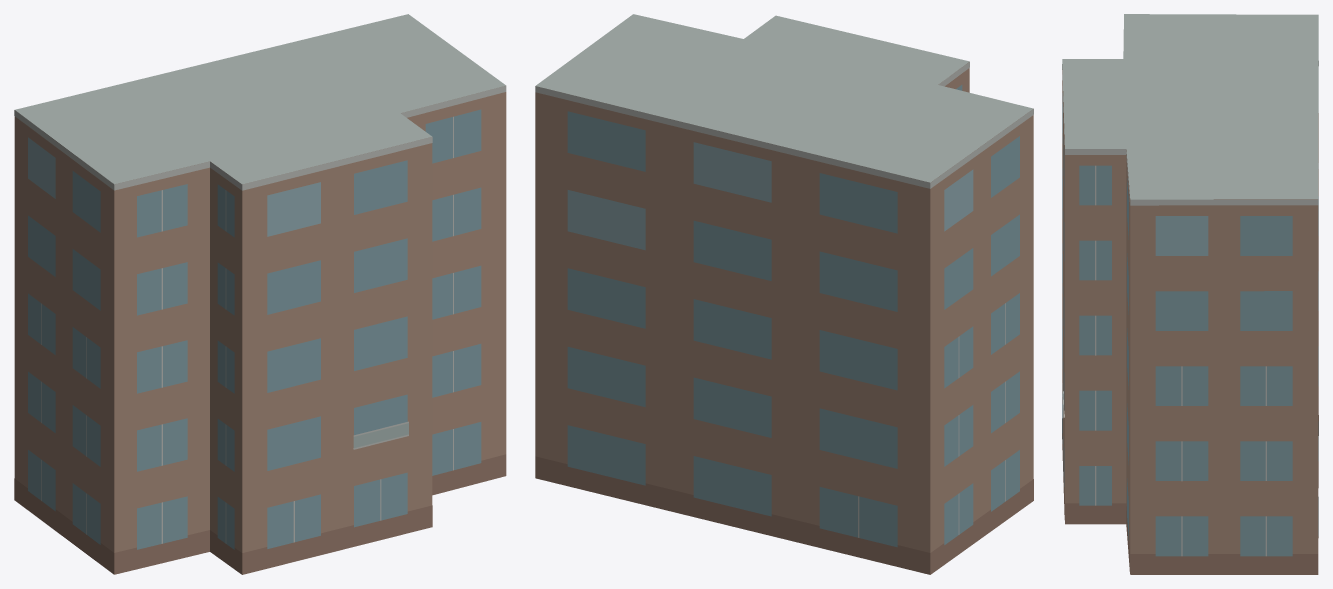
Rendered from survey-upis-32957611.glb.
The picture shows the model from 3 angles, left to right: view 1: azimuth 30°, elevation 25°; view 2: azimuth 150°, elevation 25°; view 3: azimuth 270°, elevation 25°; orthographic projection. The views are drawn at different scales.
Visible parts, largest first — view 1: survey-upis-32957611.tmp; view 2: survey-upis-32957611.tmp; view 3: survey-upis-32957611.tmp.
Part boxes in pixels (x1,y1,x2,y2): survey-upis-32957611.tmp: (14,14,506,574); survey-upis-32957611.tmp: (535,14,1033,574); survey-upis-32957611.tmp: (1062,14,1318,574).
Size of the model in its own units: 16.17 by 15.25 by 9.46.
